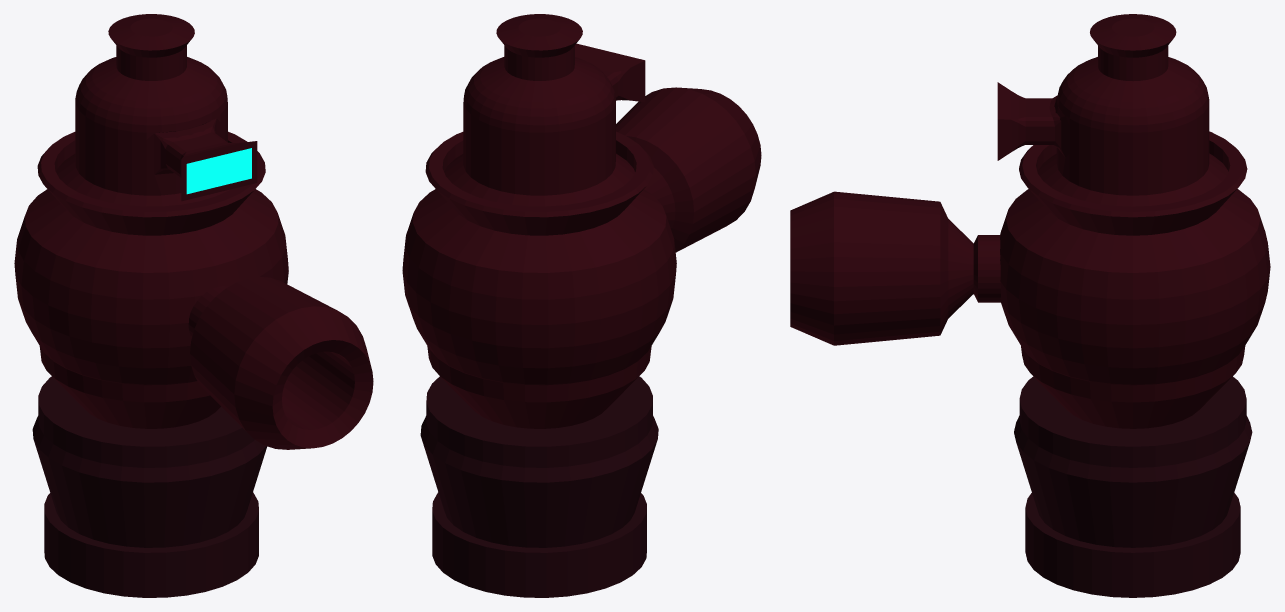
File: PumpTurret.fbx
3 renders of one model, left to right at view 1: azimuth 30°, elevation 25°; view 2: azimuth 150°, elevation 25°; view 3: azimuth 270°, elevation 25°, orthographic.
Parts seen in each view (by area): view 1: Turret; view 2: Turret; view 3: Turret.
Boxes of the visible parts, x1,y1,x2,y2 form: Turret: (14,14,373,597); Turret: (402,14,761,597); Turret: (790,14,1270,597).
Size of the model in its own units: 434 by 248 by 523.
